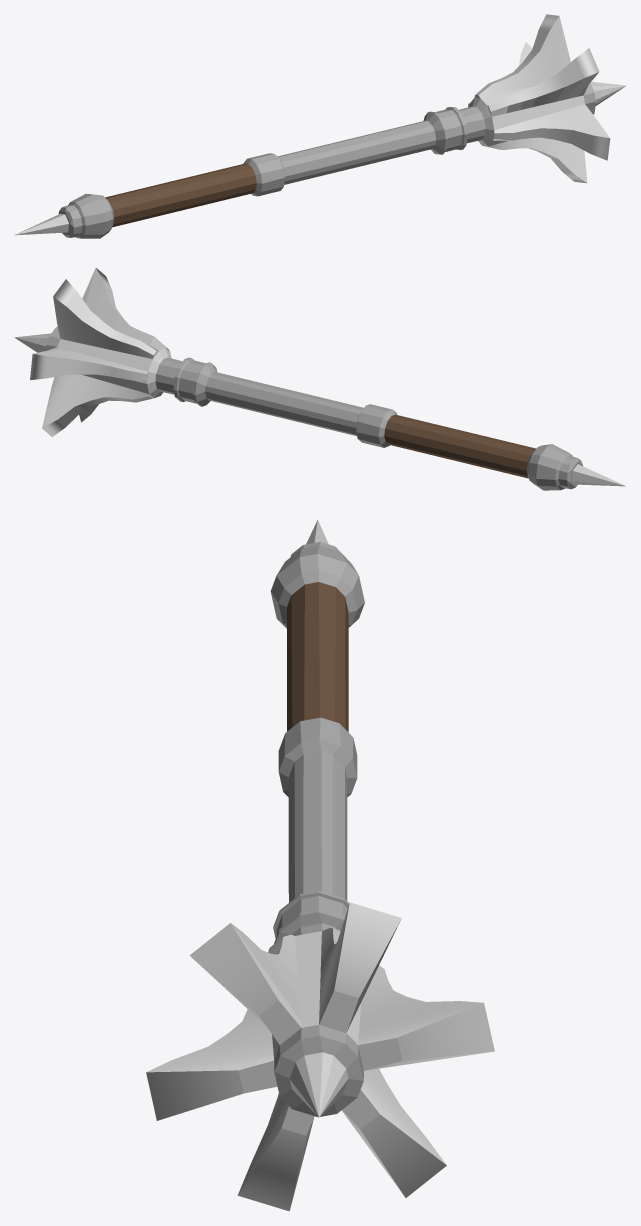
File: Mace.FBX
3 renders of one model, top to bottom at view 1: azimuth 30°, elevation 25°; view 2: azimuth 150°, elevation 25°; view 3: azimuth 270°, elevation 25°, orthographic. The views are drawn at different scales.
Visible parts, largest first — view 1: polySurface8, polySurface9, polySurface4, polySurface3, polySurface6; view 2: polySurface8, polySurface9, polySurface4, polySurface3, polySurface6; view 3: polySurface8, polySurface9, polySurface4, polySurface6.
Part boxes in pixels (<box>): polySurface8: <box>468,14,610,183</box>; polySurface9: <box>58,83,595,238</box>; polySurface4: <box>105,163,256,227</box>; polySurface3: <box>14,213,69,235</box>; polySurface6: <box>590,82,626,105</box>; polySurface8: <box>30,268,171,437</box>; polySurface9: <box>45,326,582,490</box>; polySurface4: <box>384,414,535,478</box>; polySurface3: <box>571,464,625,486</box>; polySurface6: <box>14,333,50,352</box>; polySurface8: <box>146,902,494,1211</box>; polySurface9: <box>270,542,364,1116</box>; polySurface4: <box>287,582,348,731</box>; polySurface6: <box>289,1052,348,1117</box>.
Size of the model in its own units: 54.27 by 13.1 by 13.38.
